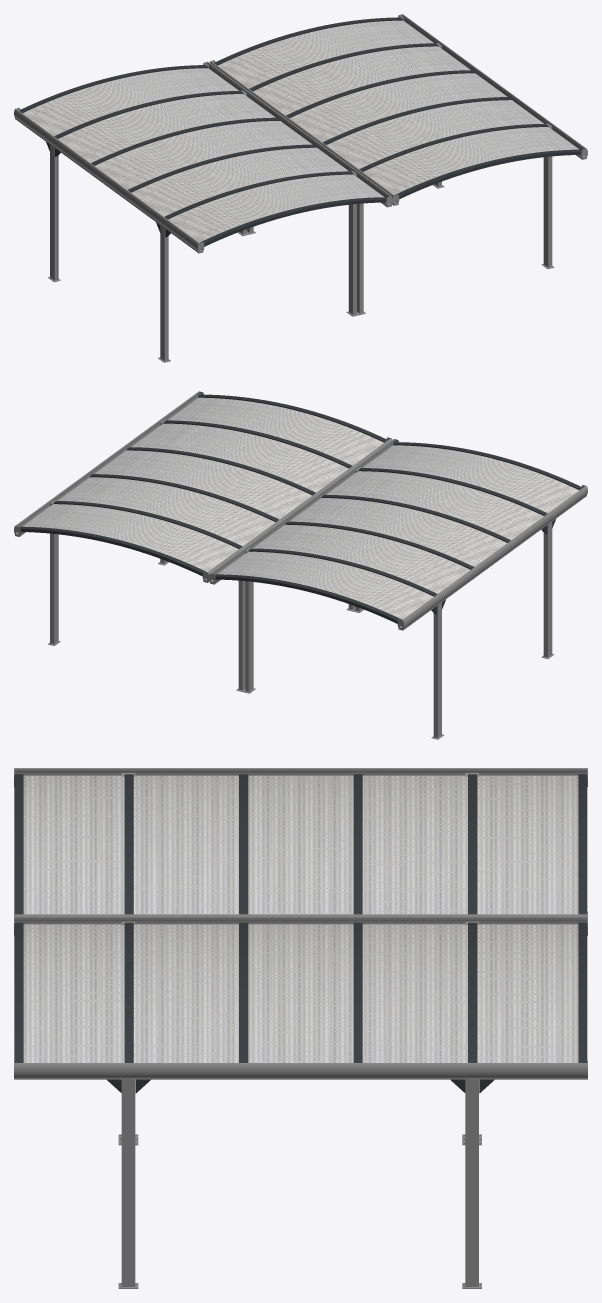
3 views of the same model, one above another, from view 1: azimuth 30°, elevation 25°; view 2: azimuth 150°, elevation 25°; view 3: azimuth 270°, elevation 25° (orthographic). The views are drawn at different scales.
Visible parts, largest first — view 1: Rectangle035, Rectangle022, Line009, Line001, Line016, Rectangle019, Rectangle016, Rectangle026, Rectangle005, Rectangle032, Line019; view 2: Rectangle022, Rectangle035, Line009, Rectangle019, Line001, Line016, Rectangle016, Rectangle001, Rectangle023, Rectangle029, Line019; view 3: Rectangle022, Rectangle035, Line016, Line019, Line009, Rectangle026, Rectangle023, Line001.
Boxes of the visible parts, <box> form: Rectangle035: <box>214,17,581,199</box>; Rectangle022: <box>19,65,386,246</box>; Line009: <box>14,109,202,252</box>; Line001: <box>207,62,391,206</box>; Line016: <box>402,14,586,159</box>; Rectangle019: <box>160,225,168,360</box>; Rectangle016: <box>50,145,58,280</box>; Rectangle026: <box>543,123,552,267</box>; Rectangle005: <box>348,171,356,314</box>; Rectangle032: <box>357,203,363,313</box>; Line019: <box>210,61,397,205</box>; Rectangle022: <box>215,442,582,623</box>; Rectangle035: <box>20,394,387,576</box>; Line009: <box>399,486,587,630</box>; Rectangle019: <box>543,522,552,657</box>; Line001: <box>211,439,394,583</box>; Line016: <box>16,391,199,536</box>; Rectangle016: <box>433,602,441,737</box>; Rectangle001: <box>245,548,253,691</box>; Rectangle023: <box>50,500,58,644</box>; Rectangle029: <box>238,580,245,690</box>; Line019: <box>204,438,391,582</box>; Rectangle022: <box>14,774,587,914</box>; Rectangle035: <box>14,922,587,1062</box>; Line016: <box>14,1063,587,1079</box>; Line019: <box>14,916,587,924</box>; Line009: <box>14,768,587,775</box>; Rectangle026: <box>121,1079,135,1286</box>; Rectangle023: <box>465,1079,478,1286</box>; Line001: <box>14,914,587,916</box>.
Bounding box in the file's own units: 6136 × 2287 × 5008.
Materials: 3 (2 with a texture image).
